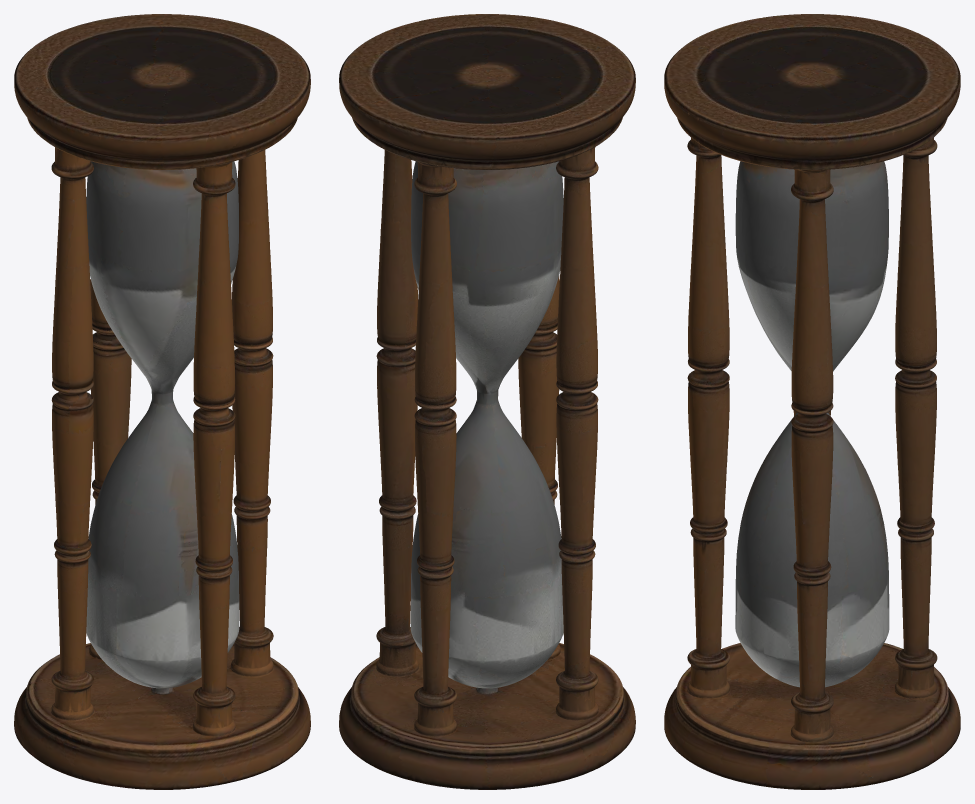
File: reloj-arena.glb
The picture shows the model from 3 angles, left to right: view 1: azimuth 30°, elevation 25°; view 2: azimuth 150°, elevation 25°; view 3: azimuth 270°, elevation 25°; orthographic projection.
Visible parts, largest first — view 1: mesh_node; view 2: mesh_node; view 3: mesh_node.
Boxes of the visible parts, bbox=[...] form: mesh_node: bbox=[14, 14, 310, 789]; mesh_node: bbox=[339, 14, 635, 789]; mesh_node: bbox=[664, 14, 960, 789].
Bounding box in the file's own units: 0.7812 × 1.9 × 0.7813.
Materials: 1 (1 with a texture image).
